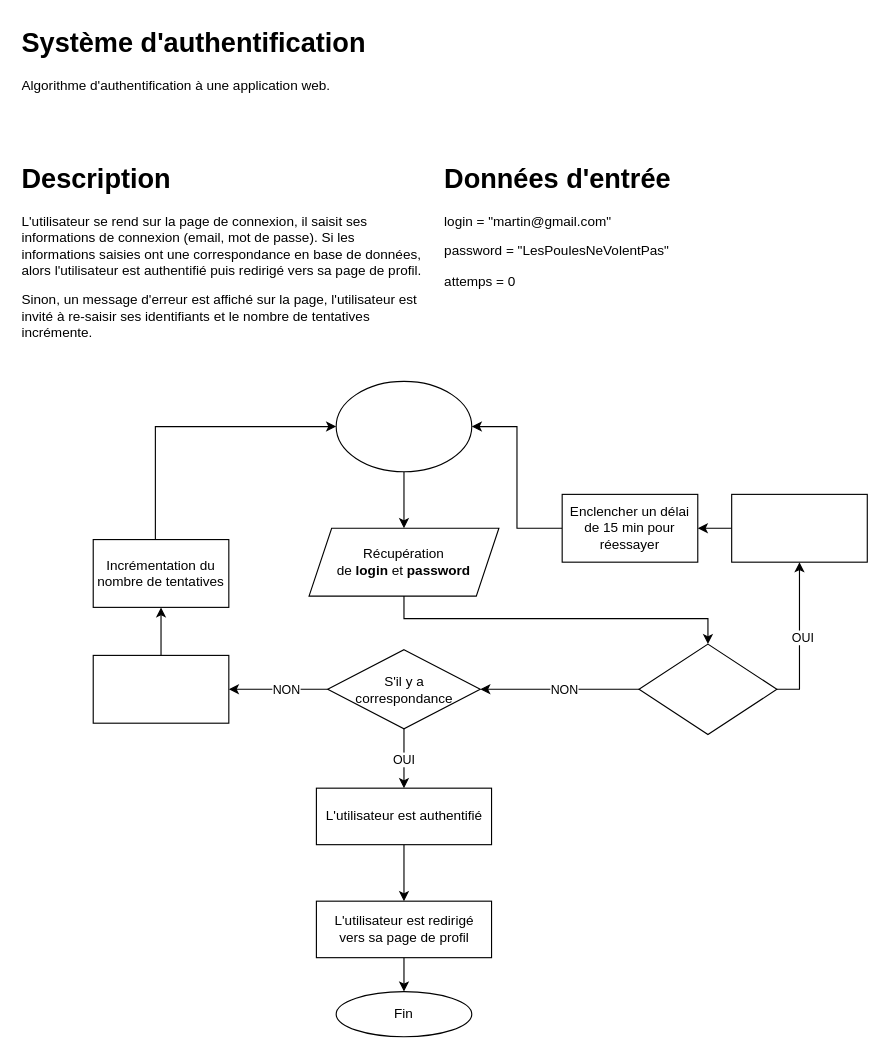
This 887x1057 diagram has some shape labels left out. The box of each missing label's shape, as (x1, y1, x2, y2) in pixels:
Afficher un message d'erreur sur l'interface: (92, 654, 229, 723)
Afficher un message de limite d'essai: (731, 493, 867, 562)
Début: (335, 380, 472, 472)
Si attemps > 2: (638, 643, 777, 734)
